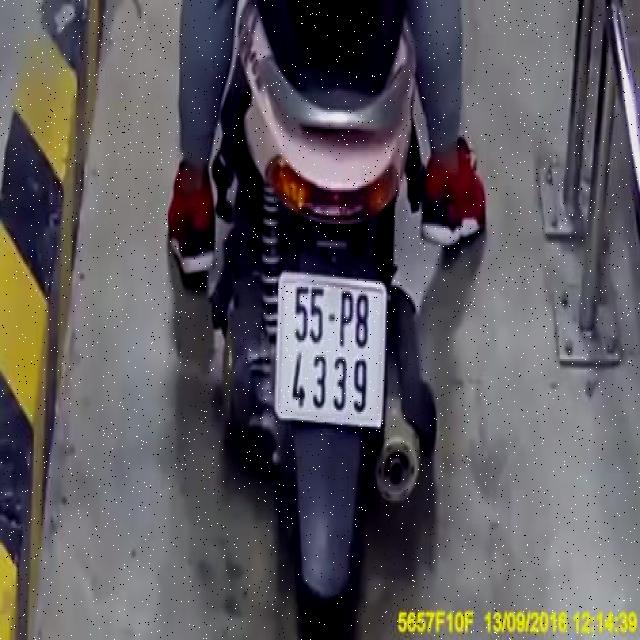3: (312, 350, 328, 412), (334, 350, 348, 412)
4: (290, 348, 307, 409)
5: (295, 285, 311, 342), (310, 286, 324, 344)
8: (355, 289, 373, 353)
9: (353, 353, 370, 416)
P: (338, 290, 354, 351)
